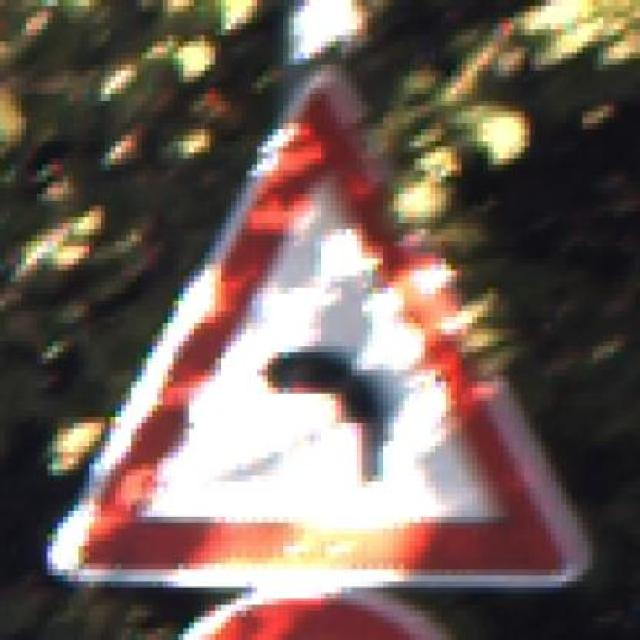Dangerous Left Curve Ahead: (52, 65, 603, 588)
